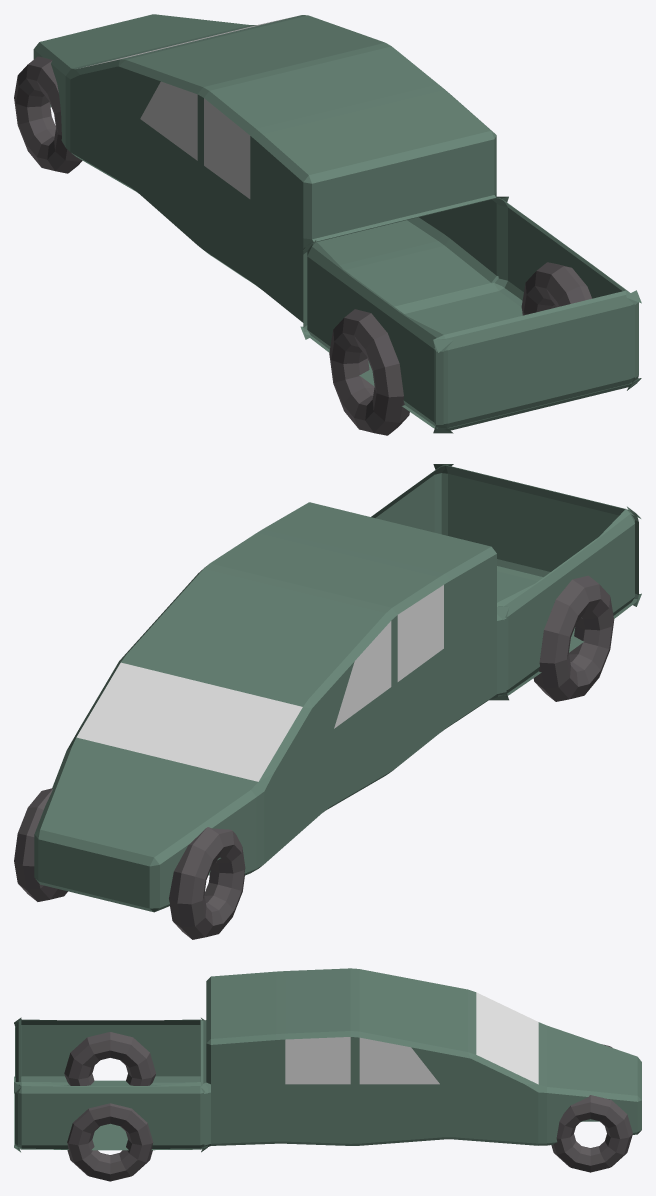
Rendered from GreenCar.fbx.
3 views of the same model, one above another, from view 1: azimuth 30°, elevation 25°; view 2: azimuth 150°, elevation 25°; view 3: azimuth 270°, elevation 25° (orthographic). The views are drawn at different scales.
Visible parts, largest first — view 1: Cube.007; view 2: Cube.007; view 3: Cube.007.
Boxes of the visible parts, left/top/right/bottom form: Cube.007: left=14, top=14, right=641, bottom=435; Cube.007: left=14, top=464, right=641, bottom=939; Cube.007: left=14, top=968, right=641, bottom=1181.
Bounding box in the file's own units: 440 × 395 × 1499.
